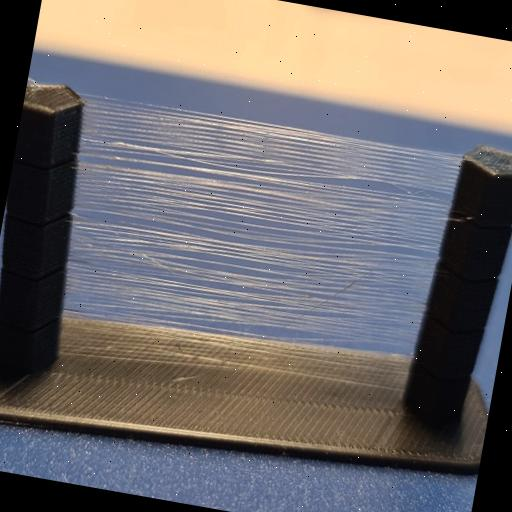stringing: (61, 97, 463, 398)
